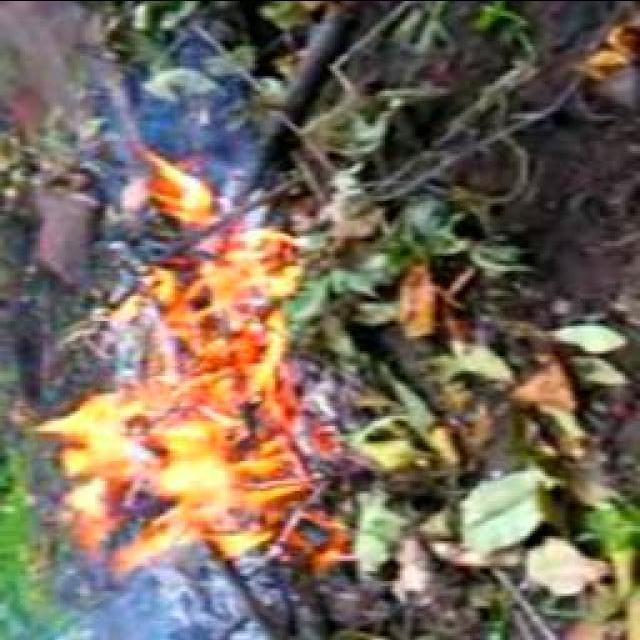Fire: (47, 164, 300, 576)
